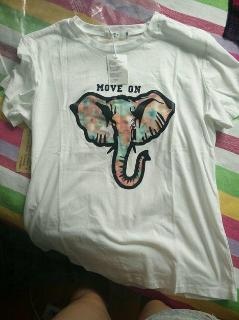short sleeve top: (0, 12, 239, 302)
